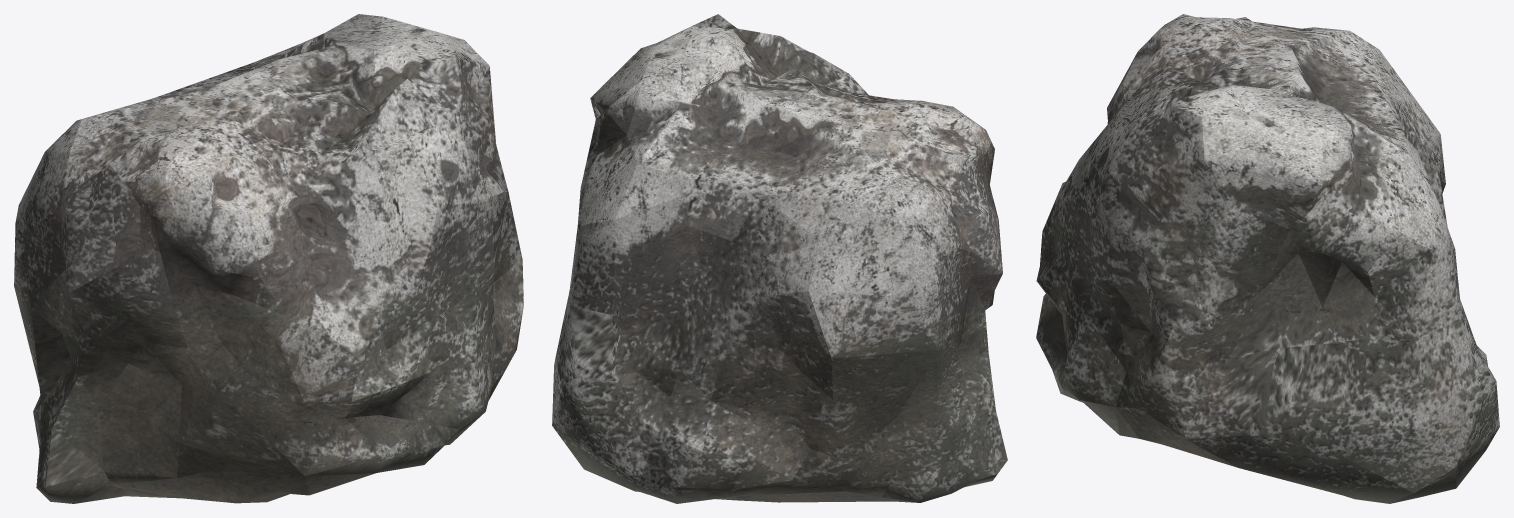
File: rock1_LOD1.fbx
3 views of the same model, side by side, from view 1: azimuth 30°, elevation 25°; view 2: azimuth 150°, elevation 25°; view 3: azimuth 270°, elevation 25° (orthographic). The views are drawn at different scales.
Visible parts, largest first — view 1: rock1; view 2: rock1; view 3: rock1.
Part boxes in pixels (x1,y1,x2,y2): rock1: (14,14,523,503); rock1: (552,14,1007,503); rock1: (1036,14,1499,503).
Size of the model in its own units: 8.02 by 7.68 by 7.6.
